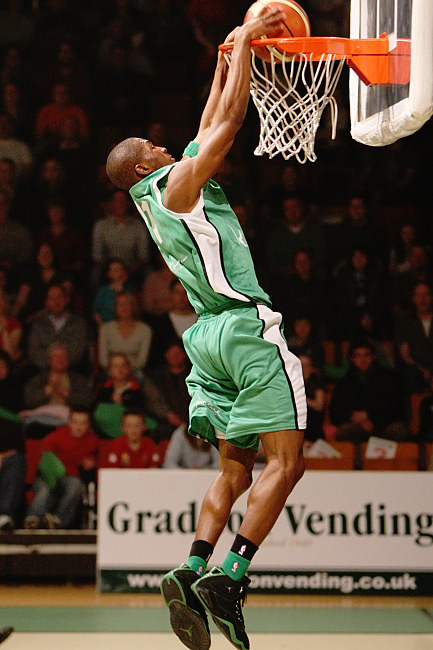basketball: (241, 1, 311, 62)
